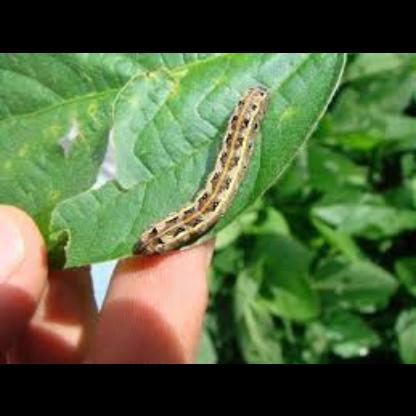oruga: (126, 77, 276, 264)
